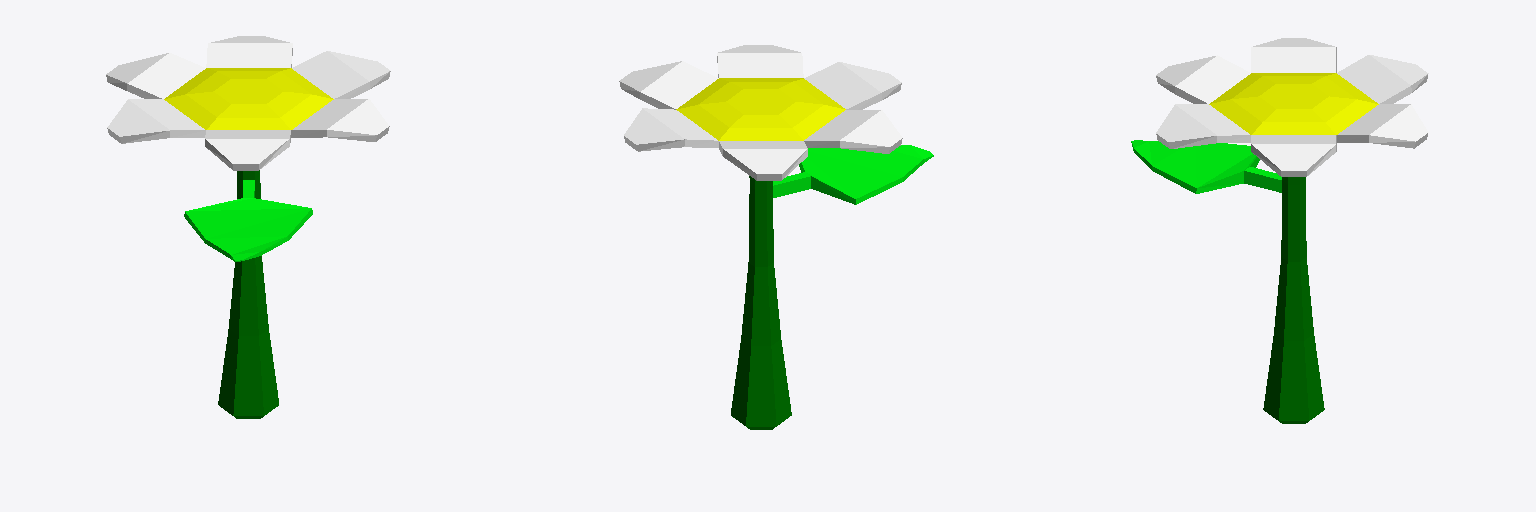
3 renders of one model, left to right at view 1: azimuth 30°, elevation 25°; view 2: azimuth 150°, elevation 25°; view 3: azimuth 270°, elevation 25°, orthographic.
Parts seen in each view (by area): view 1: Circle; view 2: Circle; view 3: Circle.
Boxes of the visible parts, box(x1,y1,x2,y2) form: Circle: box(106, 36, 390, 418); Circle: box(619, 45, 933, 429); Circle: box(1131, 38, 1428, 423).
Size of the model in its own units: 3.68 by 4.16 by 3.5.
Materials: 1 (1 with a texture image).